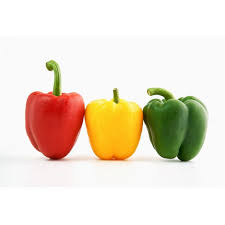bell pepper: (7, 53, 90, 169), (140, 81, 220, 164), (82, 87, 149, 167)
